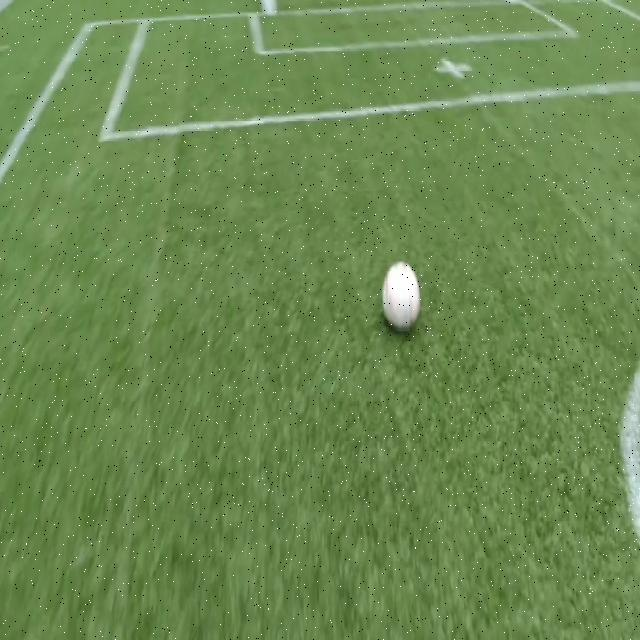ball: (382, 262, 420, 331)
